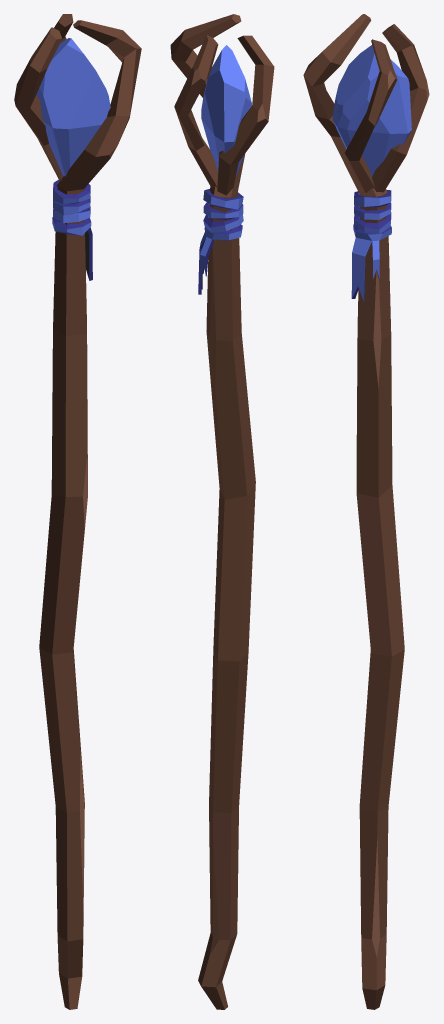
Rendered from WizardStaff_01.glb.
3 renders of one model, left to right at view 1: azimuth 90°, elevation 25°; view 2: azimuth 210°, elevation 25°; view 3: azimuth 270°, elevation 25°, orthographic.
Visible parts, largest first — view 1: WizardStaff_01; view 2: WizardStaff_01; view 3: WizardStaff_01.
Part boxes in pixels (x1,y1,x2,y2): WizardStaff_01: [14, 14, 141, 1009]; WizardStaff_01: [170, 14, 274, 1009]; WizardStaff_01: [303, 14, 429, 1009].
Size of what is drawn, in the model's own units: 0.1833 by 2.01 by 0.2329.
1 material, 1 textured.
